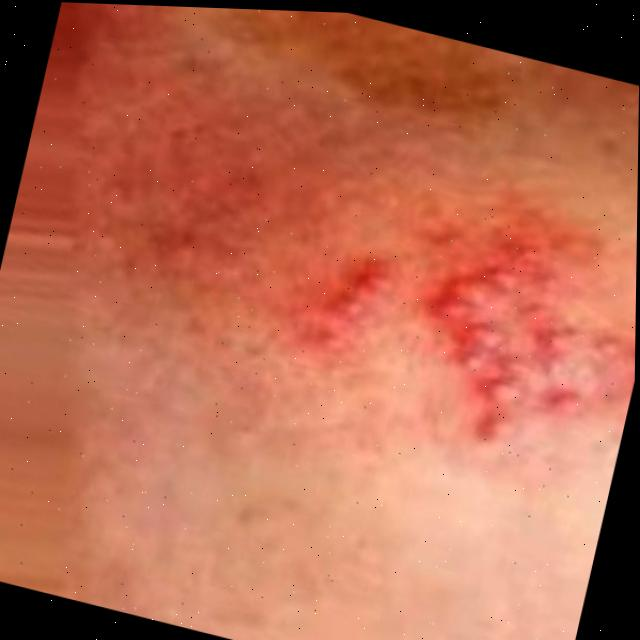Shingles: (289, 206, 637, 479)
